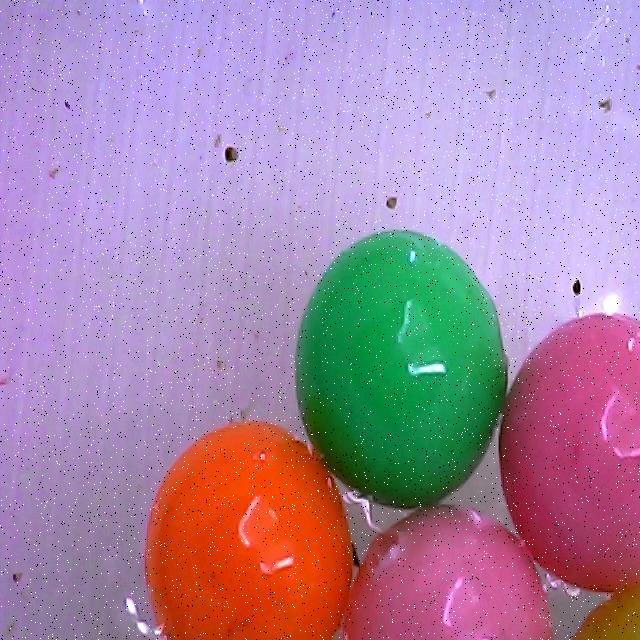beads: (274, 218, 530, 521), (144, 423, 353, 640), (501, 313, 640, 593), (343, 506, 554, 640)
